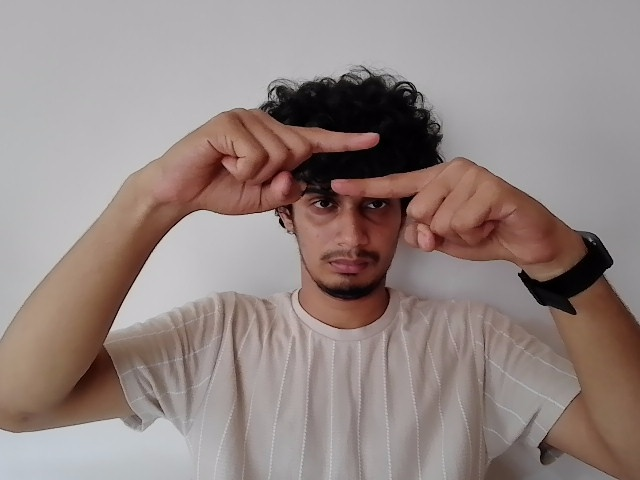about: (133, 108, 547, 268)
